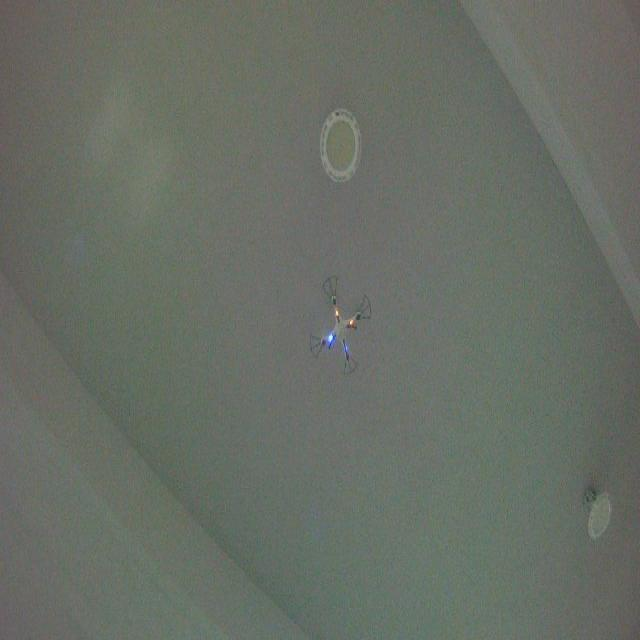drone: (306, 271, 374, 378)
